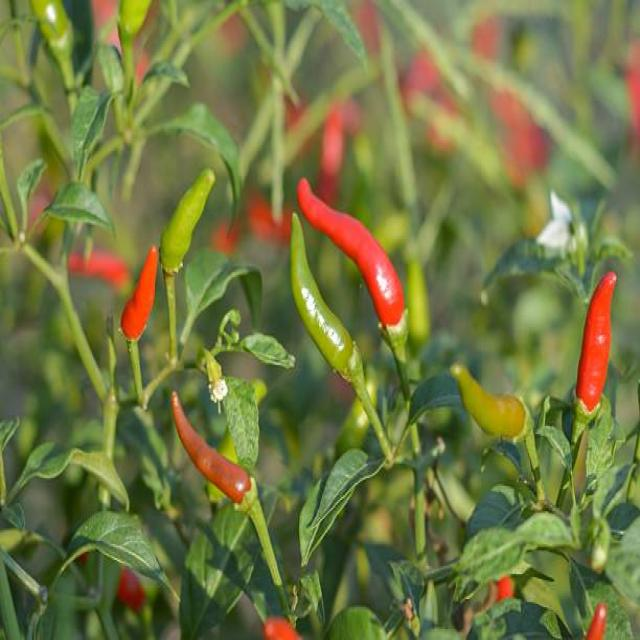Half-Ripe: (171, 391, 251, 503)
Ripe: (298, 179, 405, 326), (576, 273, 614, 412), (121, 246, 156, 341)
Unripe: (290, 214, 352, 381), (160, 169, 215, 273), (451, 363, 525, 437)
